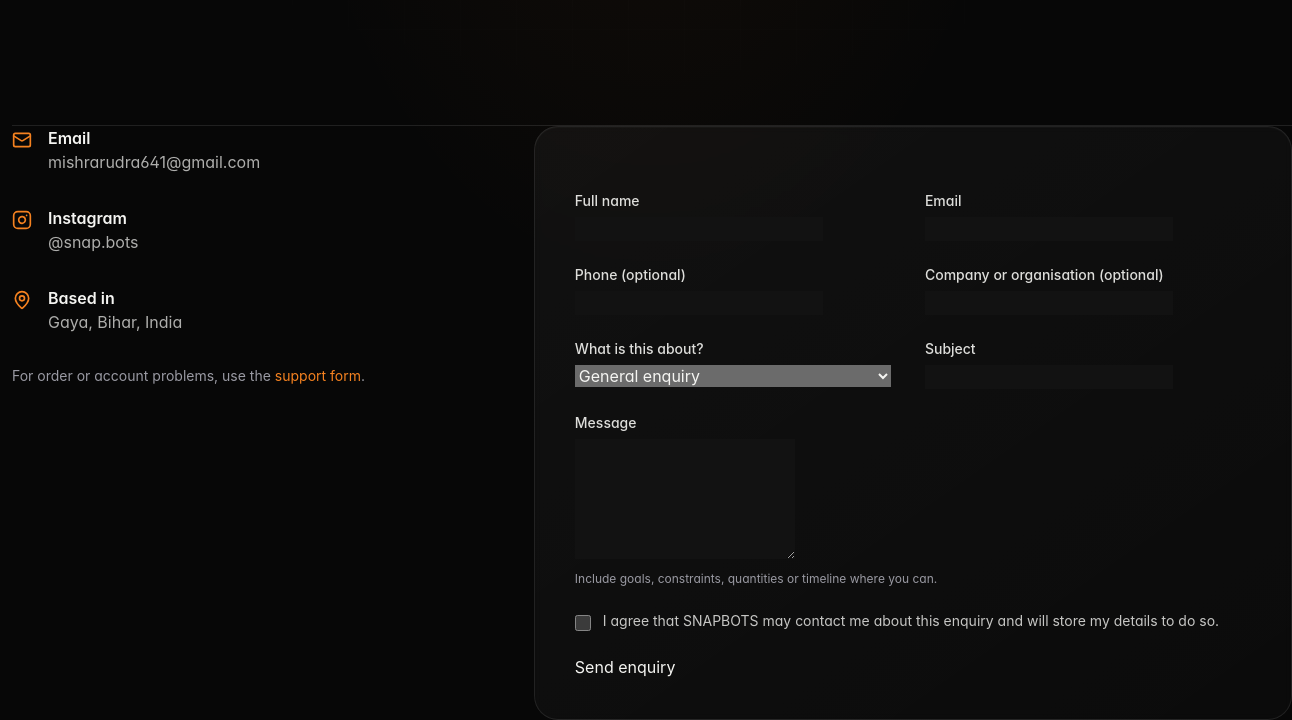
Contact page › shows validation errors and does not submit an empty form
(page scrolled)
Click the button "Send enquiry" at (625, 667), box [575,655,675,679]
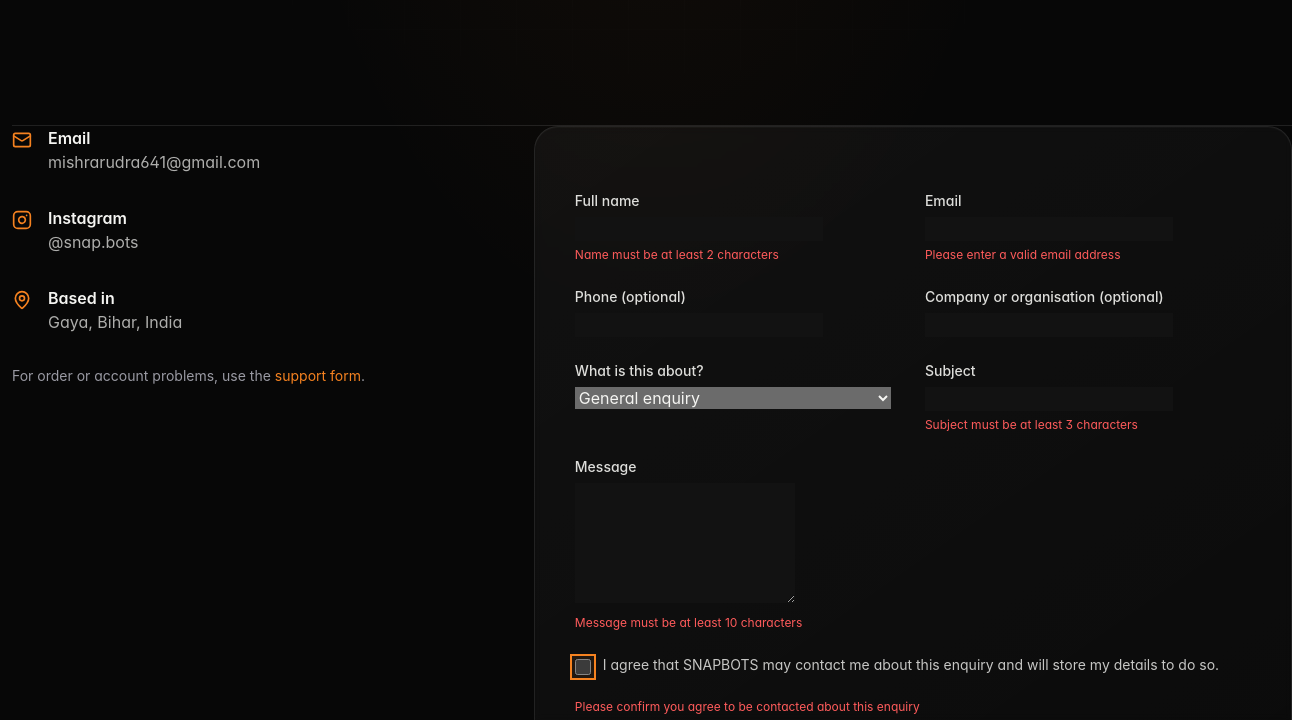
Expected: the message "Name must be at least 2 characters" is shown, [575,247,779,262]
